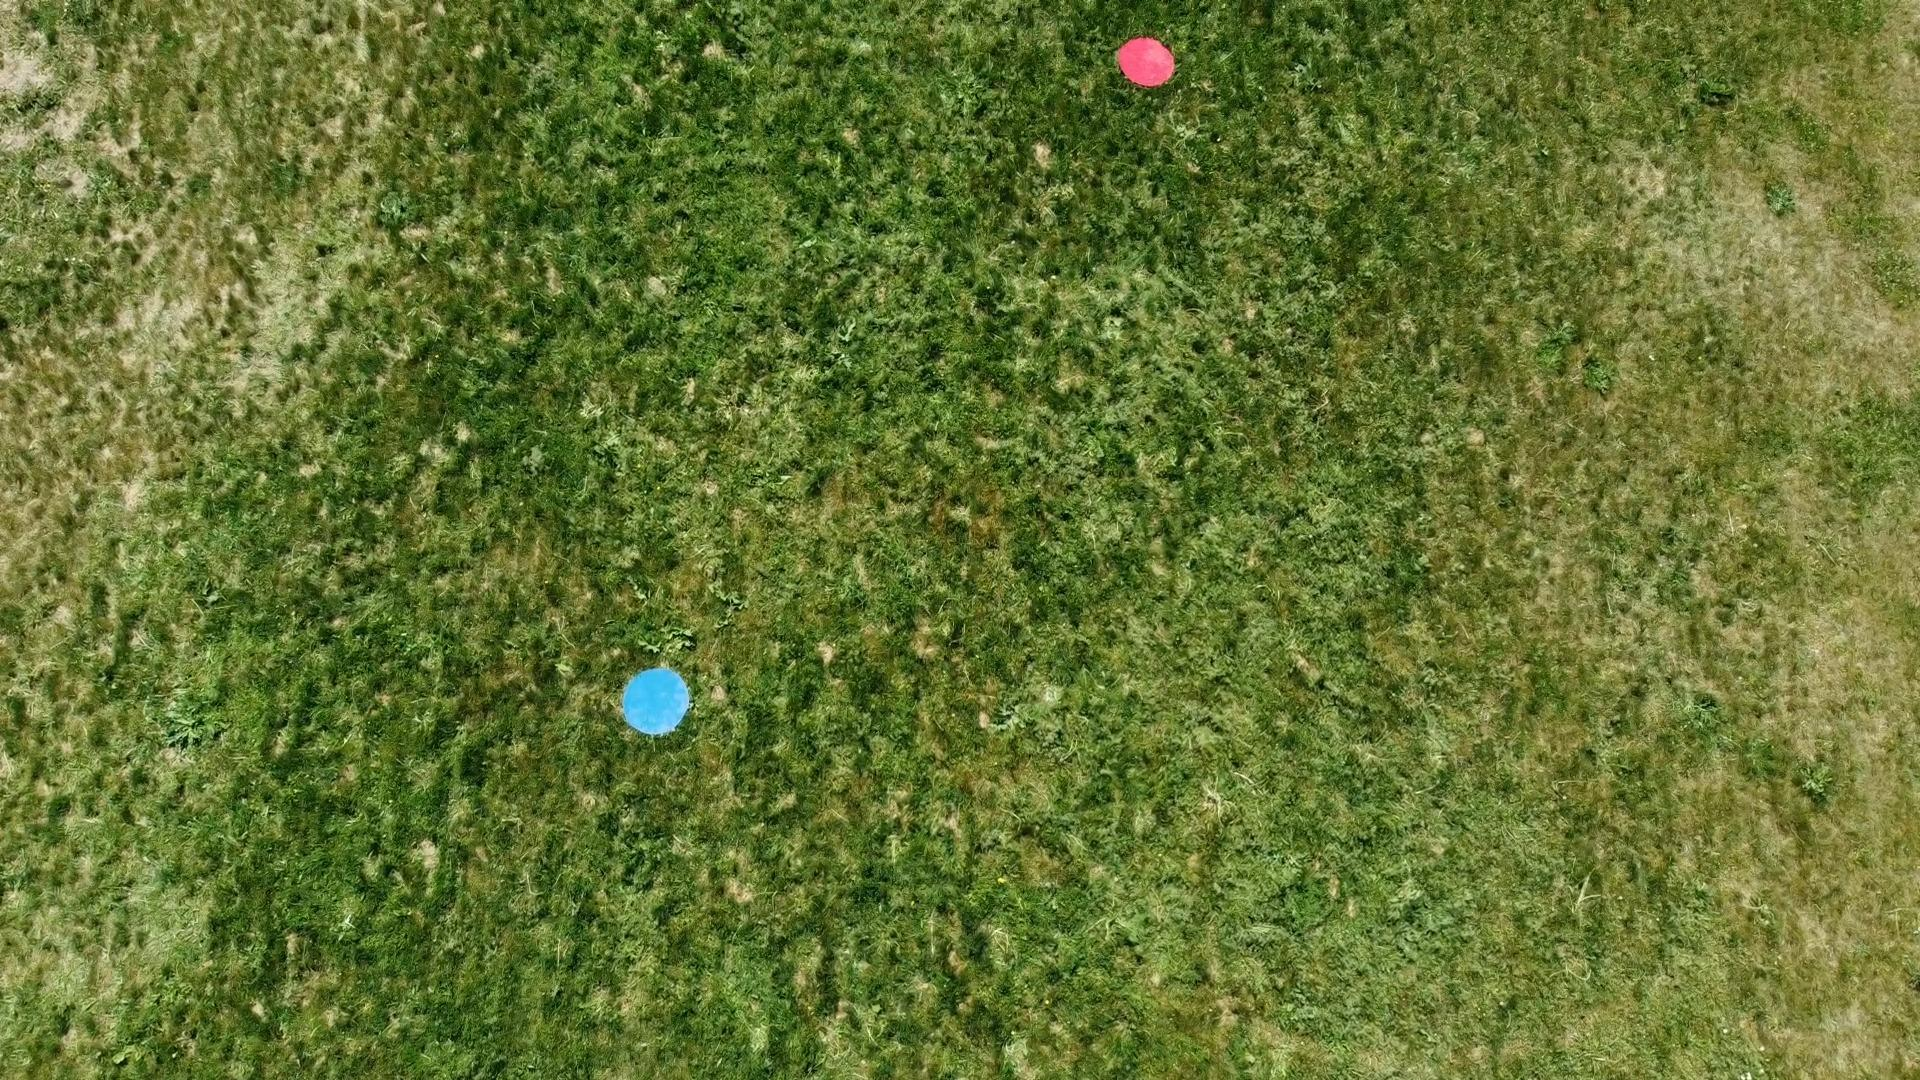Blue: (620, 665, 694, 737)
Red: (1116, 34, 1178, 87)
